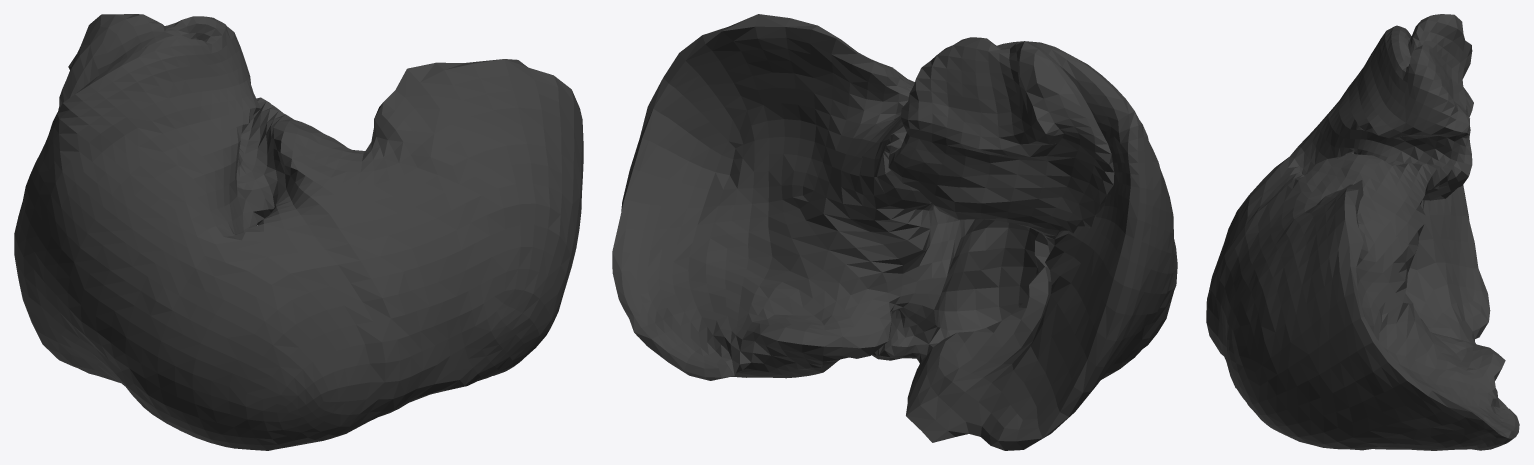
The model's file is Liver.glb.
3 renders of one model, left to right at view 1: azimuth 30°, elevation 25°; view 2: azimuth 150°, elevation 25°; view 3: azimuth 270°, elevation 25°, orthographic. The views are drawn at different scales.
Visible parts, largest first — view 1: Liver; view 2: Liver; view 3: Liver.
Part boxes in pixels (left/top/right/bottom): Liver: left=14, top=14, right=583, bottom=450; Liver: left=612, top=14, right=1177, bottom=450; Liver: left=1206, top=14, right=1519, bottom=450.
Size of the model in its own units: 183 by 128 by 113.
Materials: 1 (1 with a texture image).
